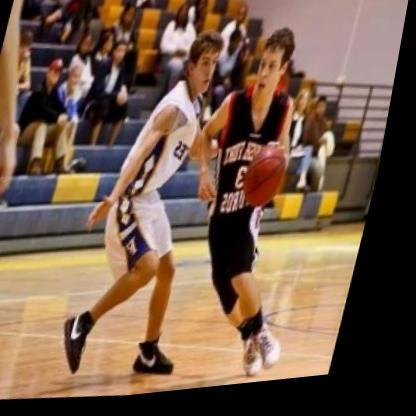basketball: (242, 150, 301, 220)
